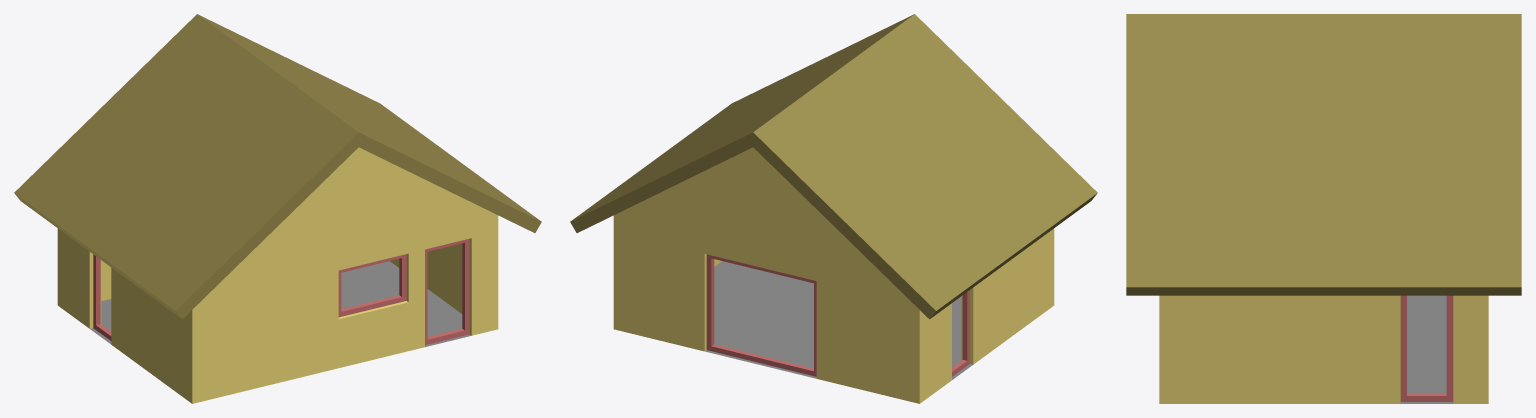
File: result.glb
3 renders of one model, left to right at view 1: azimuth 30°, elevation 25°; view 2: azimuth 150°, elevation 25°; view 3: azimuth 270°, elevation 25°, orthographic. The views are drawn at different scales.
Visible parts, largest first — view 1: 438212a3-d2ee-4439-9fe5-b2d952b9faf3__undefined (×2), 5aaa1812-1d83-4c0e-9493-8151dc2d415e__undefined, b31120cd-0f7a-4e25-a265-76f469f4ab73__Plane_6, e56ca14a-bd72-477c-b729-9d48260228df__Box, 9e8a6908-2dc7-4380-af9c-2552cb1faf49__Box_3, 81233cbd-745b-45fd-a9bd-4aa7aff9495e__Box_12; view 2: 438212a3-d2ee-4439-9fe5-b2d952b9faf3__undefined (×2), 5aaa1812-1d83-4c0e-9493-8151dc2d415e__undefined, b31120cd-0f7a-4e25-a265-76f469f4ab73__Plane_6, da5968a3-2c00-4a4b-b1fb-bb537bc71940__Box_9, 81233cbd-745b-45fd-a9bd-4aa7aff9495e__Box_12; view 3: 438212a3-d2ee-4439-9fe5-b2d952b9faf3__undefined, 5aaa1812-1d83-4c0e-9493-8151dc2d415e__undefined, b31120cd-0f7a-4e25-a265-76f469f4ab73__Plane_6, 2cae769e-f845-44c8-ada5-2966cebab85a__Box_15.
Part boxes in pixels (x1,y1,x2,y2): 438212a3-d2ee-4439-9fe5-b2d952b9faf3__undefined (×2): [14, 14, 541, 319]; 5aaa1812-1d83-4c0e-9493-8151dc2d415e__undefined: [57, 147, 498, 403]; b31120cd-0f7a-4e25-a265-76f469f4ab73__Plane_6: [90, 261, 471, 346]; e56ca14a-bd72-477c-b729-9d48260228df__Box: [425, 238, 469, 344]; 9e8a6908-2dc7-4380-af9c-2552cb1faf49__Box_3: [338, 254, 406, 317]; 81233cbd-745b-45fd-a9bd-4aa7aff9495e__Box_12: [93, 254, 111, 340]; 438212a3-d2ee-4439-9fe5-b2d952b9faf3__undefined (×2): [570, 14, 1097, 319]; 5aaa1812-1d83-4c0e-9493-8151dc2d415e__undefined: [613, 147, 1054, 403]; b31120cd-0f7a-4e25-a265-76f469f4ab73__Plane_6: [705, 261, 972, 379]; da5968a3-2c00-4a4b-b1fb-bb537bc71940__Box_9: [706, 254, 816, 376]; 81233cbd-745b-45fd-a9bd-4aa7aff9495e__Box_12: [952, 290, 969, 376]; 438212a3-d2ee-4439-9fe5-b2d952b9faf3__undefined: [1126, 14, 1521, 295]; 5aaa1812-1d83-4c0e-9493-8151dc2d415e__undefined: [1159, 295, 1488, 403]; b31120cd-0f7a-4e25-a265-76f469f4ab73__Plane_6: [1400, 295, 1453, 403]; 2cae769e-f845-44c8-ada5-2966cebab85a__Box_15: [1400, 295, 1453, 401].
Size of the model in its own units: 785 by 500 by 600.
